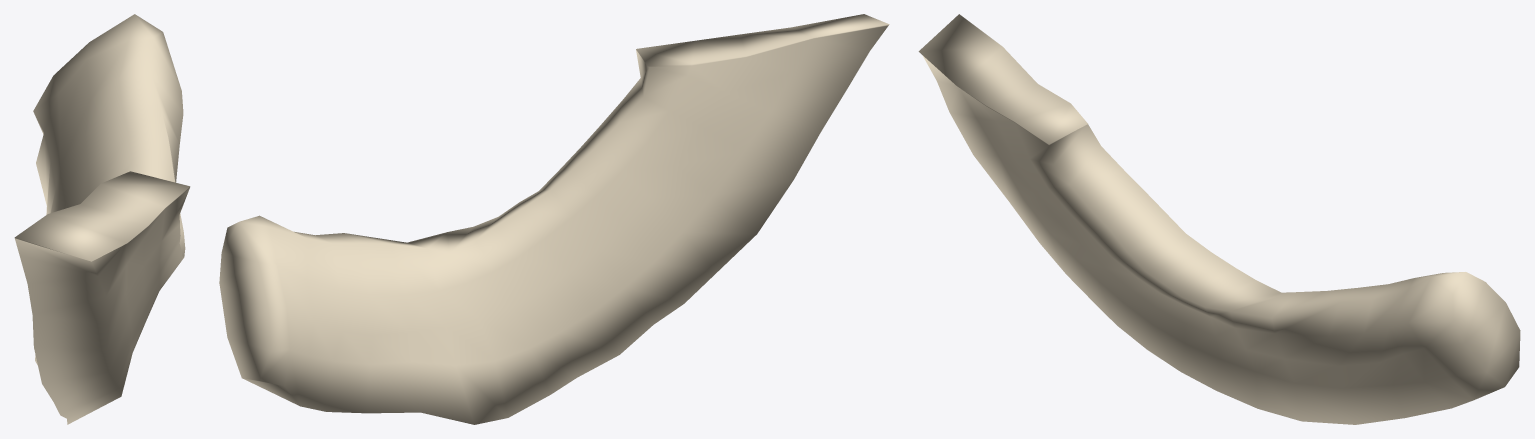
Rendered from costal-cartilage-of-tenth-rib-l.glb.
3 views of the same model, side by side, from view 1: azimuth 30°, elevation 25°; view 2: azimuth 150°, elevation 25°; view 3: azimuth 270°, elevation 25° (orthographic). The views are drawn at different scales.
Visible parts, largest first — view 1: Costal cartilage of tenth rib.l; view 2: Costal cartilage of tenth rib.l; view 3: Costal cartilage of tenth rib.l.
Part boxes in pixels (bbox=[...]): Costal cartilage of tenth rib.l: bbox=[14, 14, 190, 424]; Costal cartilage of tenth rib.l: bbox=[219, 14, 889, 424]; Costal cartilage of tenth rib.l: bbox=[918, 14, 1520, 424].
Bounding box in the file's own units: 0.0502 × 0.0378 × 0.0695.
